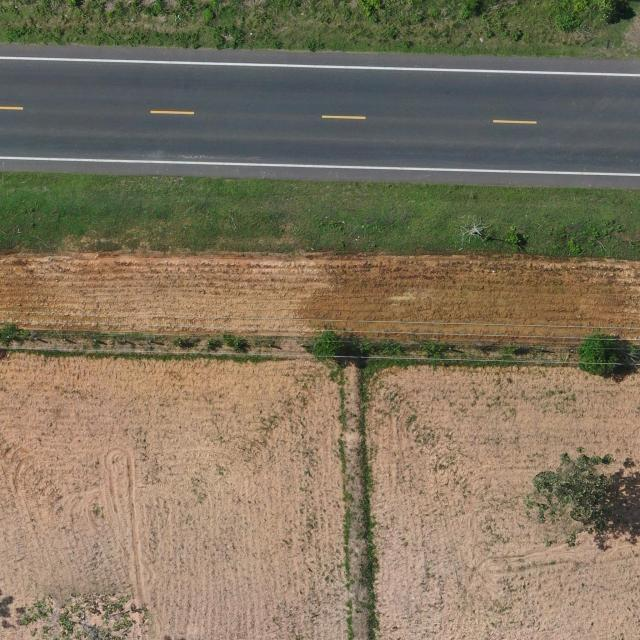Tree: (530, 445, 615, 548), (17, 590, 150, 640), (576, 334, 624, 376)
